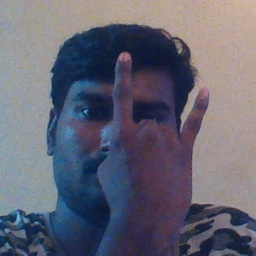V: (93, 50, 217, 223)
